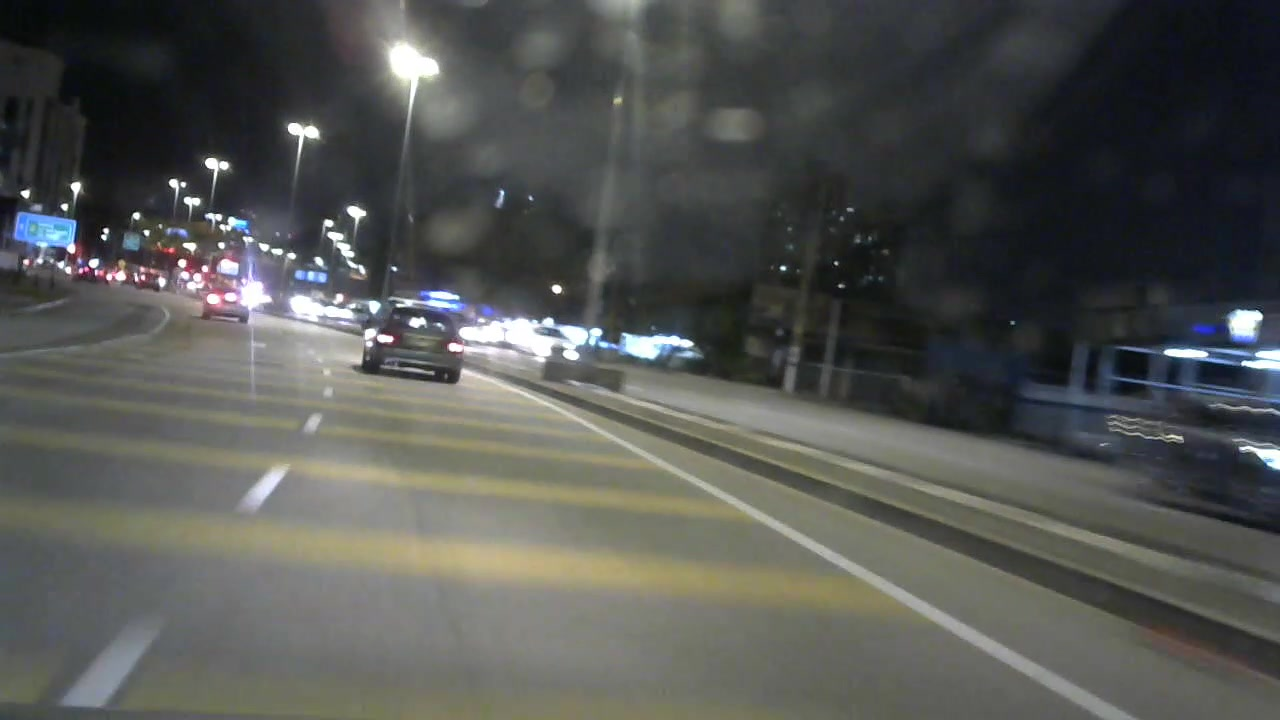Car: (354, 296, 472, 389), (188, 285, 260, 328), (134, 268, 173, 294)
